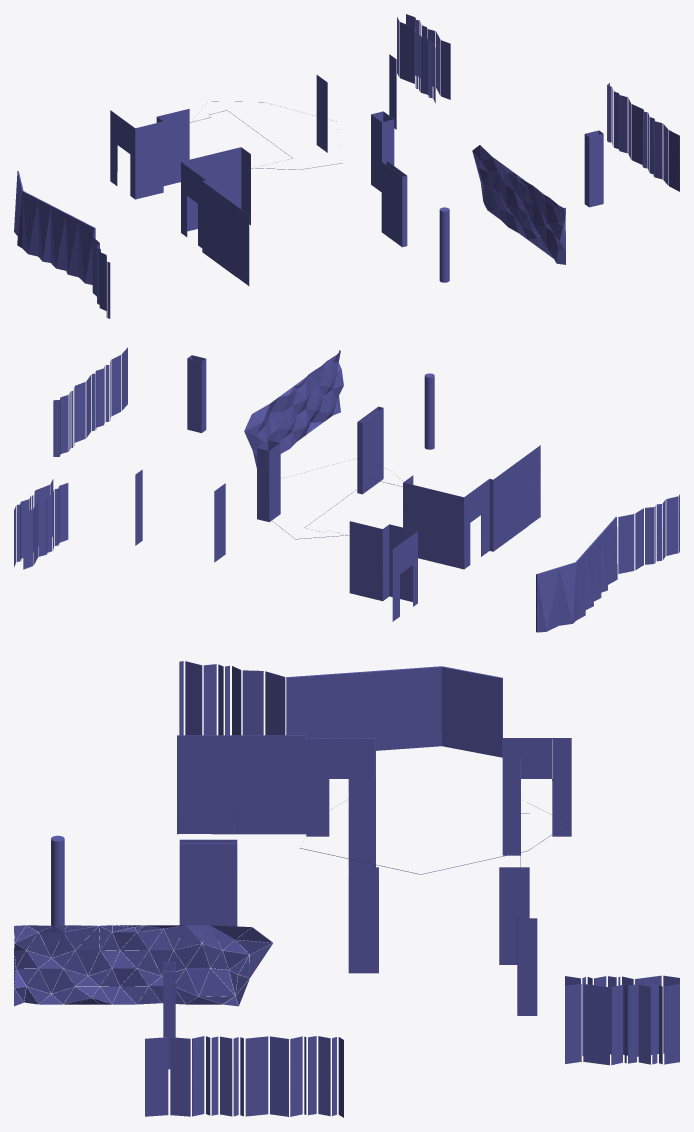
3 views of the same model, one above another, from view 1: azimuth 30°, elevation 25°; view 2: azimuth 150°, elevation 25°; view 3: azimuth 270°, elevation 25° (orthographic). The views are drawn at different scales.
Parts seen in each view (by area): view 1: Espelho; view 2: Espelho; view 3: Espelho.
Part boxes in pixels (bbox=[...]): Espelho: bbox=[14, 14, 679, 318]; Espelho: bbox=[14, 347, 679, 632]; Espelho: bbox=[14, 661, 679, 1117].
Size of the model in its own units: 298 by 36.11 by 221.
